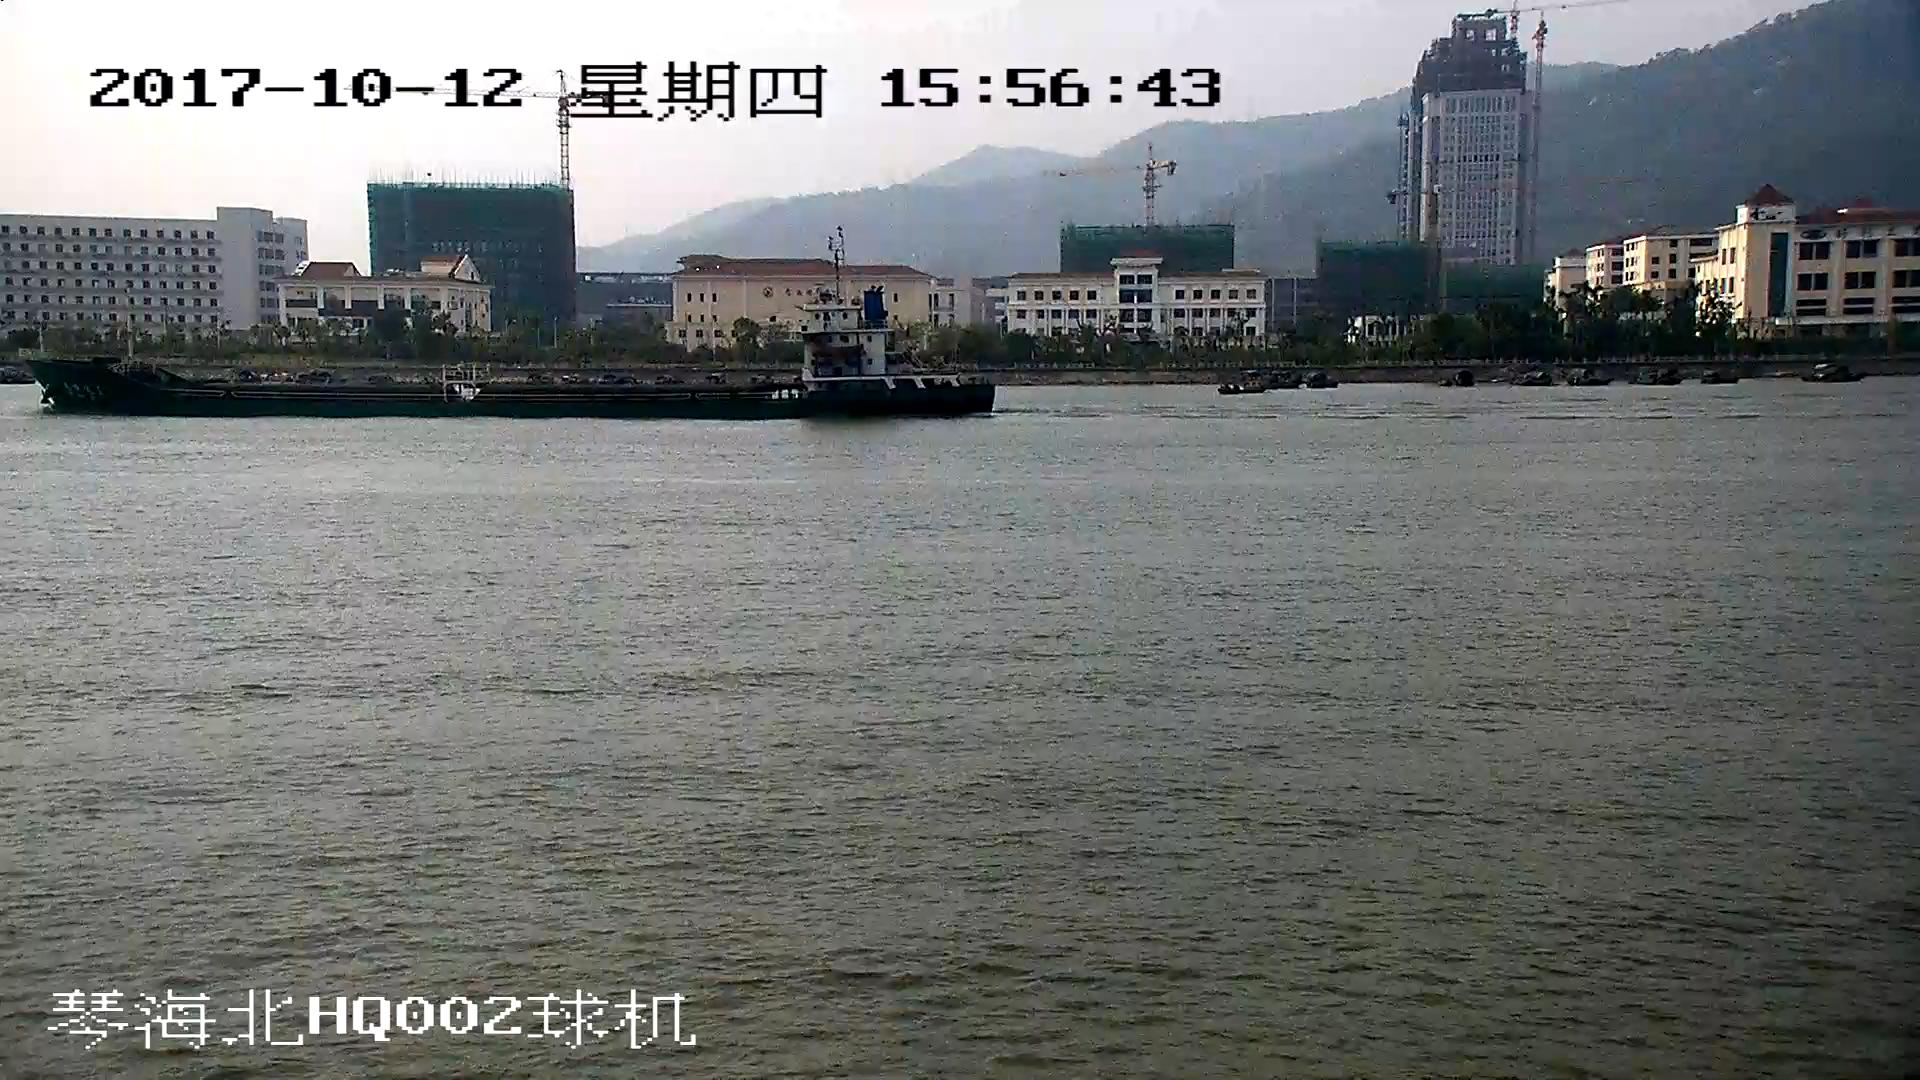general cargo ship: (17, 298, 993, 420)
